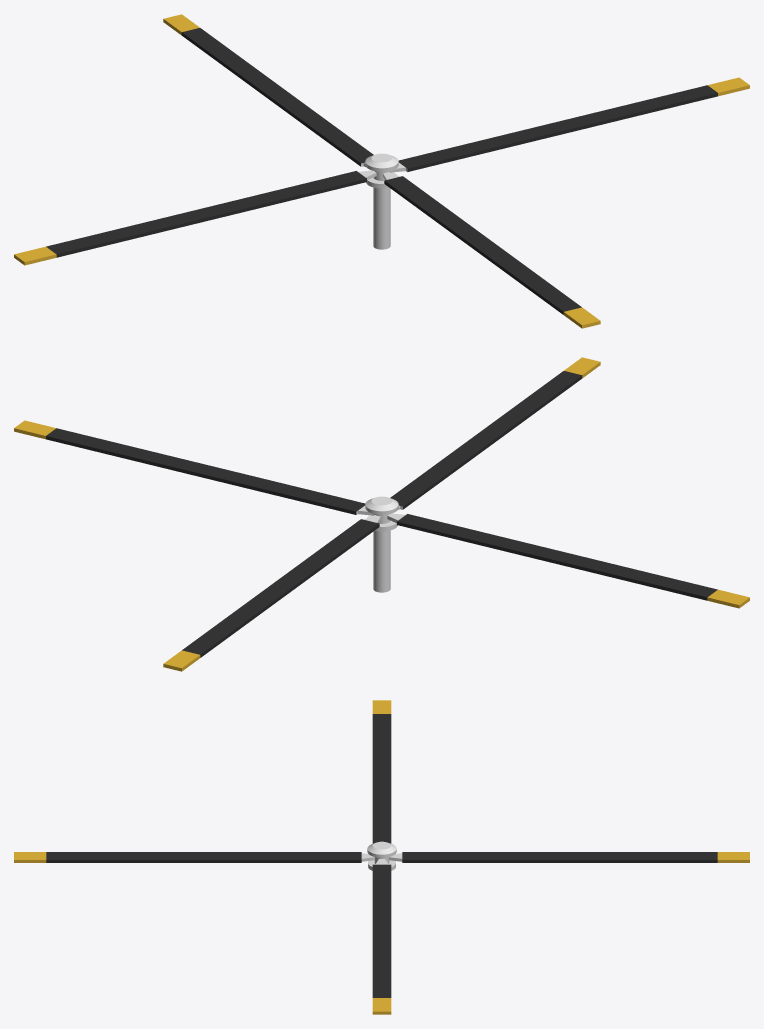
Rendered from MainRotor.glb.
The picture shows the model from 3 angles, top to bottom: view 1: azimuth 30°, elevation 25°; view 2: azimuth 150°, elevation 25°; view 3: azimuth 270°, elevation 25°; orthographic projection. The views are drawn at different scales.
Visible parts, largest first — view 1: Main Rotor; view 2: Main Rotor; view 3: Main Rotor.
Boxes of the visible parts, <box> form: Main Rotor: <box>14,14,749,328</box>; Main Rotor: <box>14,357,749,671</box>; Main Rotor: <box>14,700,749,1014</box>.
Size of the model in its own units: 26.99 by 3.13 by 26.99.
